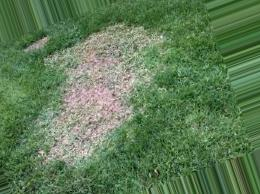patch: (65, 55, 134, 141), (89, 35, 151, 73), (39, 118, 88, 158), (29, 39, 44, 50)
